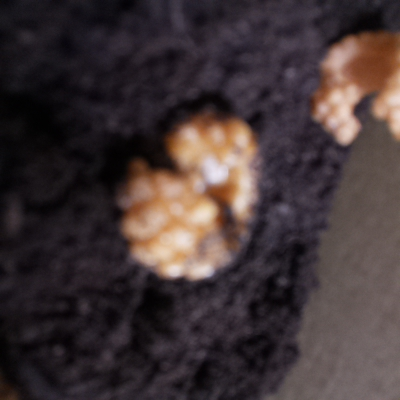eggs: (109, 99, 271, 287), (306, 26, 400, 147)
